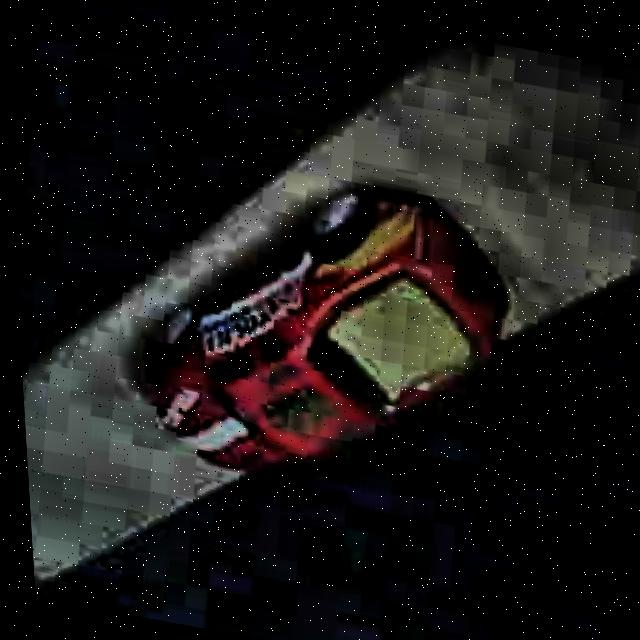car: (116, 142, 537, 525)
